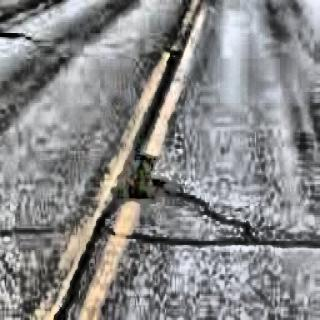crack: (52, 213, 106, 320), (112, 223, 318, 249), (130, 48, 184, 142), (172, 186, 233, 220), (0, 24, 36, 46)
pothole: (113, 146, 169, 208)
